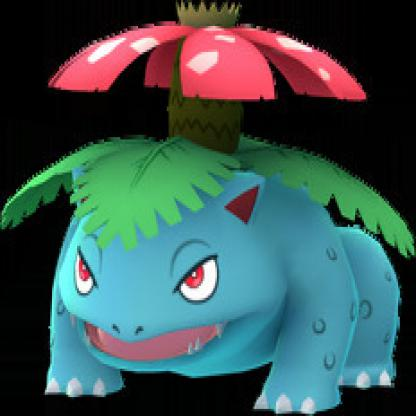Venusaur: (5, 1, 415, 415)
